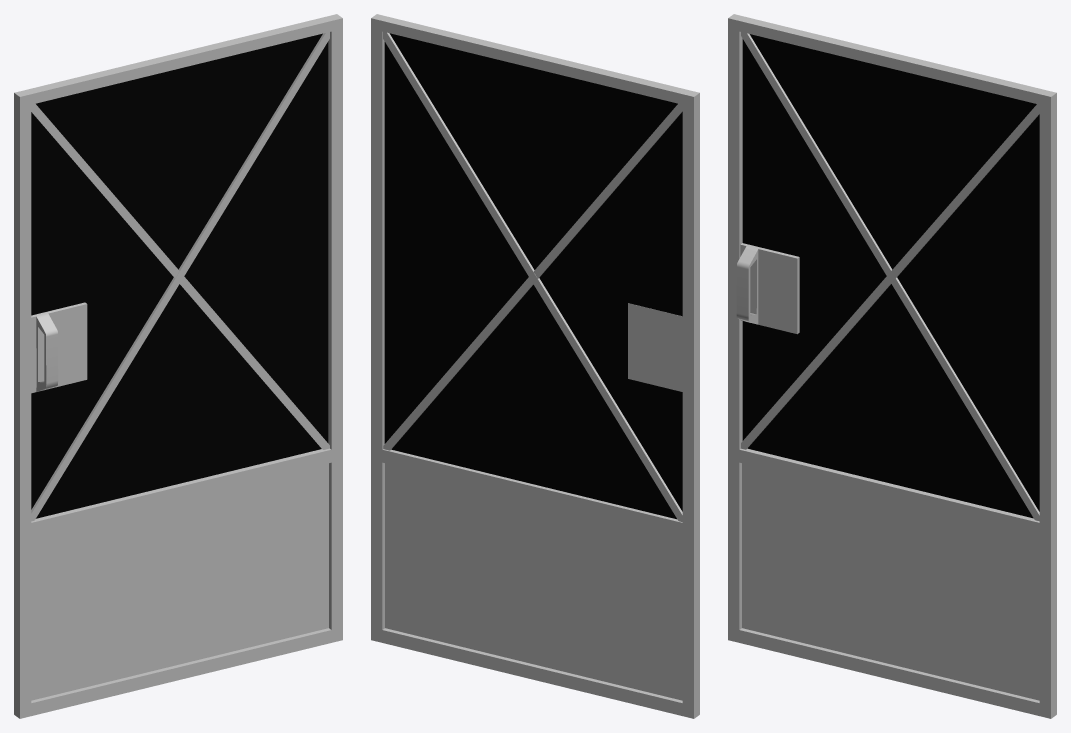
File: ElevatorDoor.fbx
The picture shows the model from 3 angles, left to right: view 1: azimuth 30°, elevation 25°; view 2: azimuth 150°, elevation 25°; view 3: azimuth 330°, elevation 25°; orthographic projection.
Parts seen in each view (by area): view 1: Cube.003; view 2: Cube.003; view 3: Cube.003.
Part boxes in pixels (x1,y1,x2,y2): Cube.003: [14, 14, 342, 718]; Cube.003: [371, 14, 699, 718]; Cube.003: [728, 14, 1056, 718].
Size of the model in its own units: 245 by 451 by 19.36.
